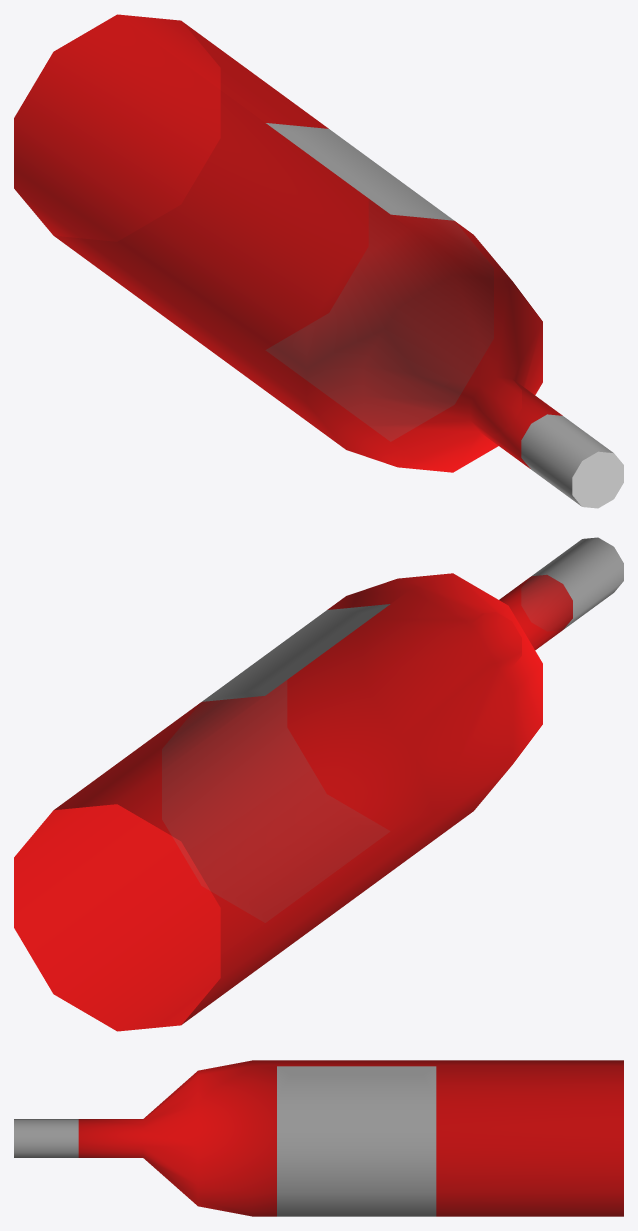
File: model_align.obj
3 views of the same model, one above another, from view 1: azimuth 30°, elevation 25°; view 2: azimuth 150°, elevation 25°; view 3: azimuth 270°, elevation 25° (orthographic). The views are drawn at different scales.
Visible parts, largest first — view 1: mesh2_mesh2-geometry, mesh1_mesh1-geometry; view 2: mesh1_mesh1-geometry, mesh2_mesh2-geometry; view 3: mesh2_mesh2-geometry, mesh1_mesh1-geometry.
Part boxes in pixels (<box>): mesh2_mesh2-geometry: <box>14,14,623,486</box>; mesh1_mesh1-geometry: <box>14,103,623,508</box>; mesh1_mesh1-geometry: <box>14,572,623,1031</box>; mesh2_mesh2-geometry: <box>14,537,623,942</box>; mesh2_mesh2-geometry: <box>14,1060,623,1170</box>; mesh1_mesh1-geometry: <box>14,1107,623,1216</box>.
Bounding box in the file's own units: 0.0615 × 0.0647 × 0.2479.
